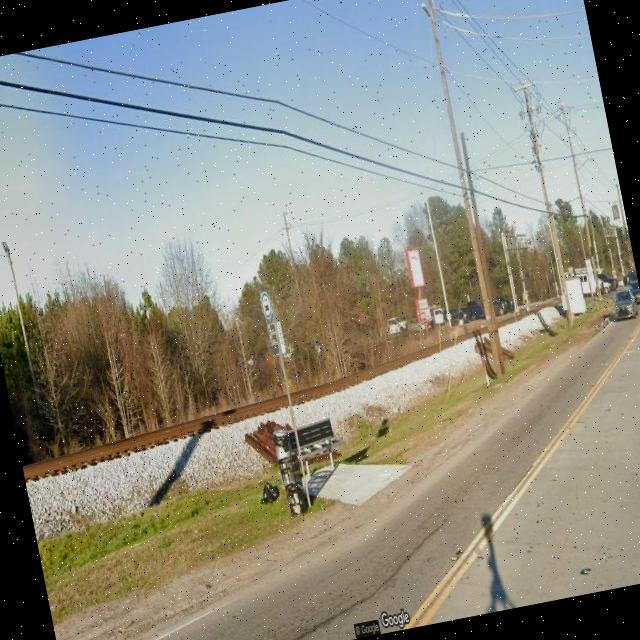seating: (288, 418, 346, 483)
trash_can: (273, 428, 310, 516), (278, 454, 308, 516)
